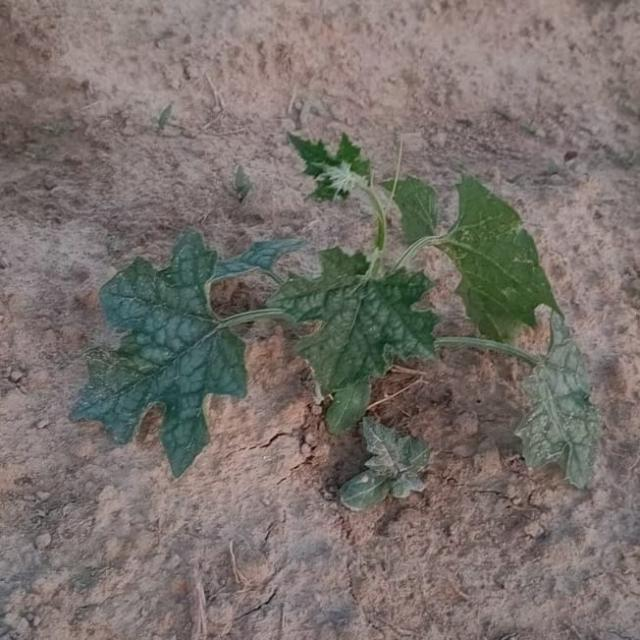plant: (71, 135, 599, 488), (340, 421, 428, 508)
